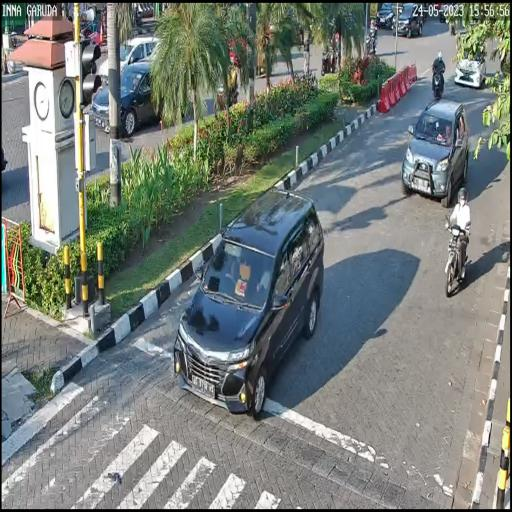mobil: (174, 184, 326, 419), (403, 96, 472, 204)
motor: (444, 212, 472, 298)
